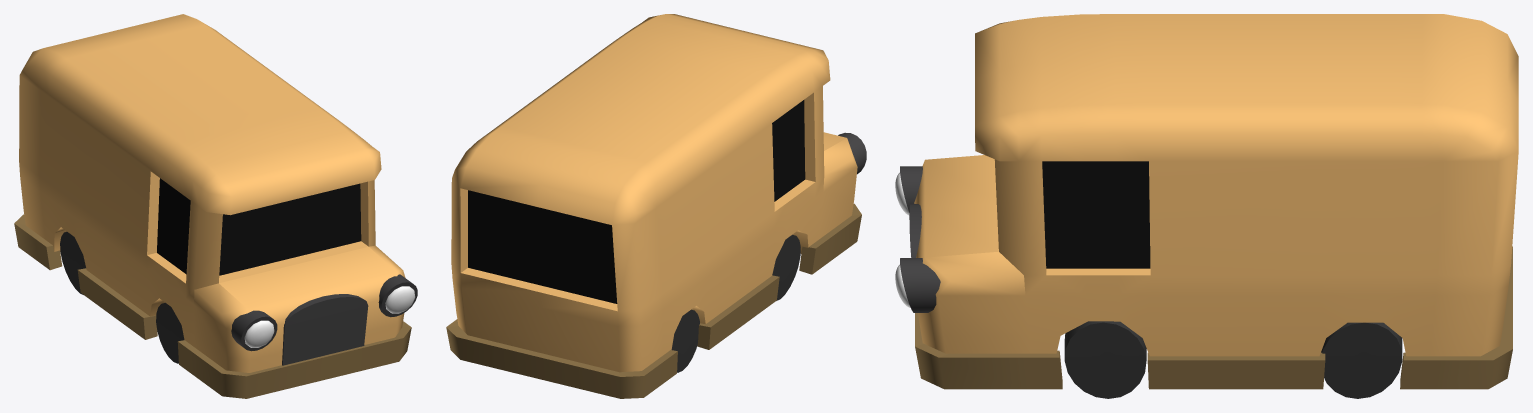
File: MapAvatar.fbx
3 views of the same model, side by side, from view 1: azimuth 30°, elevation 25°; view 2: azimuth 150°, elevation 25°; view 3: azimuth 270°, elevation 25° (orthographic). The views are drawn at different scales.
Visible parts, largest first — view 1: Thomas; view 2: Thomas; view 3: Thomas.
Part boxes in pixels (<box>): Thomas: <box>14,14,417,398</box>; Thomas: <box>446,14,866,398</box>; Thomas: <box>895,14,1518,398</box>.
Bounding box in the file's own units: 0.6855 × 0.7397 × 1.46.
Materials: 1 (1 with a texture image).
